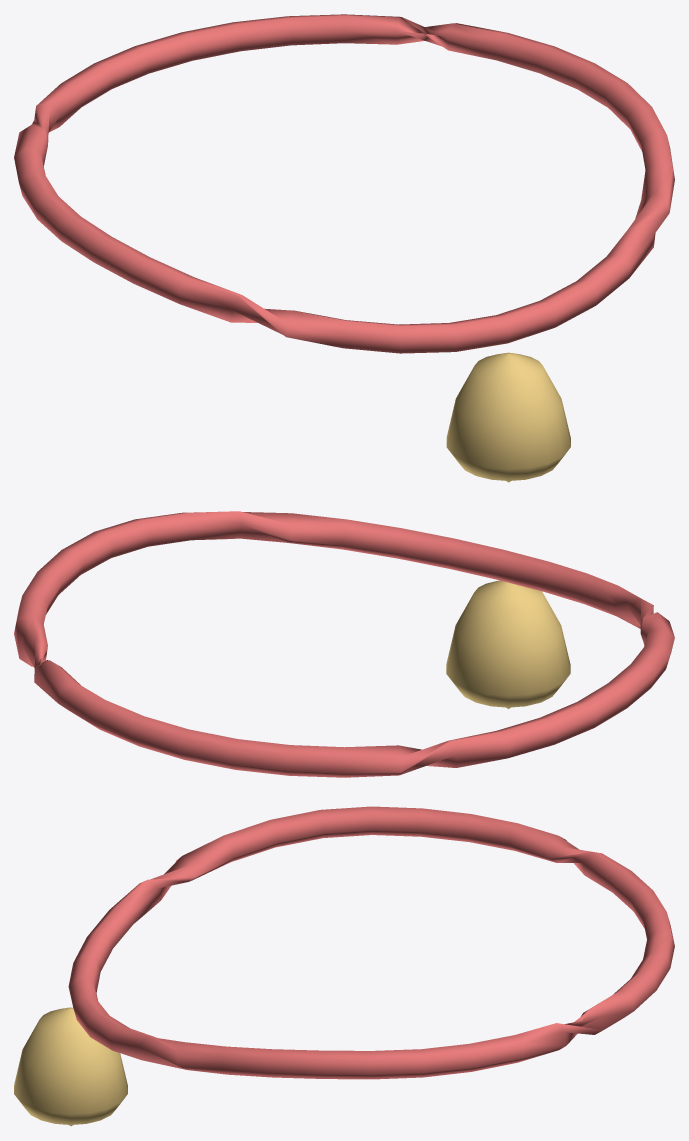
Rendered from acc-bell.glb.
The picture shows the model from 3 angles, top to bottom: view 1: azimuth 30°, elevation 25°; view 2: azimuth 150°, elevation 25°; view 3: azimuth 270°, elevation 25°; orthographic projection. The views are drawn at different scales.
Visible parts, largest first — view 1: cord, bell; view 2: cord, bell; view 3: cord, bell.
Boxes of the visible parts, left/top/right/bottom form: cord: left=14, top=14, right=674, bottom=353; bell: left=446, top=352, right=570, bottom=480; cord: left=14, top=511, right=674, bottom=777; bell: left=446, top=580, right=570, bottom=707; cord: left=68, top=806, right=674, bottom=1079; bell: left=14, top=1007, right=127, bottom=1124.
Bounding box in the file's own units: 2.1 × 0.7496 × 2.29.
